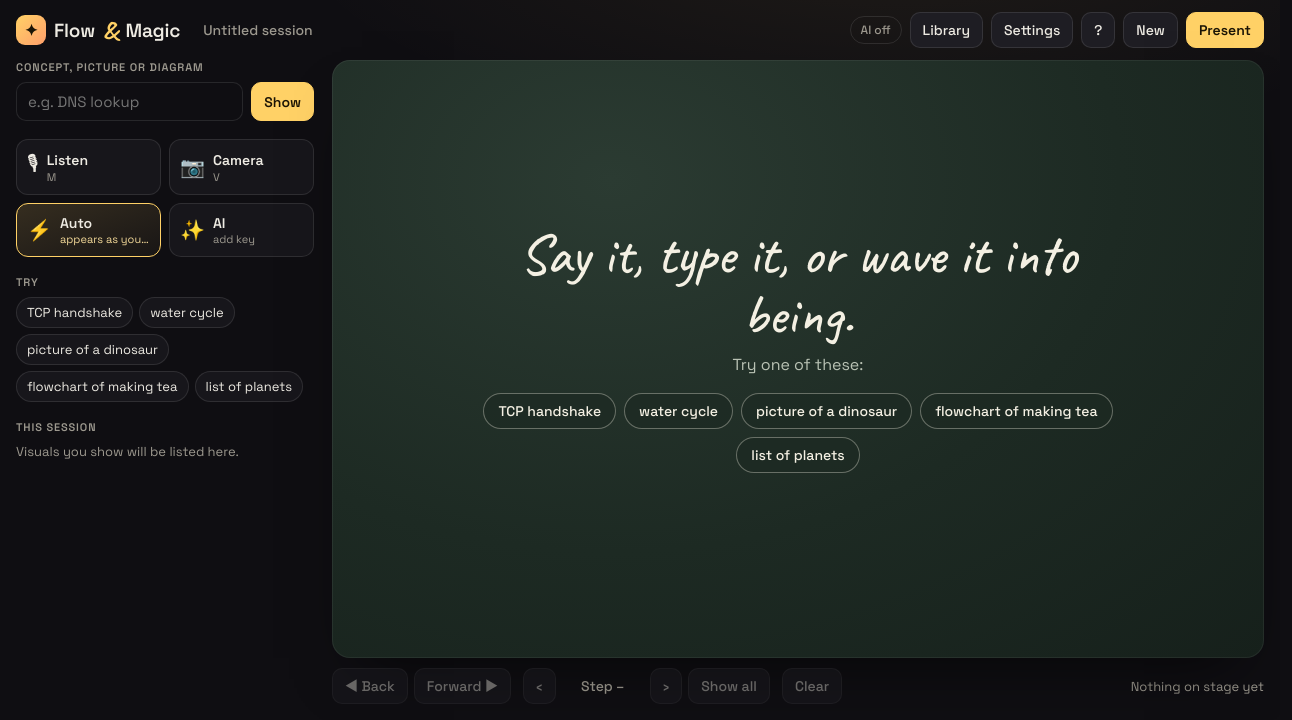
Test: App › typing a concept shows it and arrow keys step through it
The width and height of the screenshot is (1292, 720).
Step 1. Type "TCP handshake" into the field labelled "Concept, picture or diagram" → x=130, y=102, box top-left (16, 82), bottom-right (243, 121)
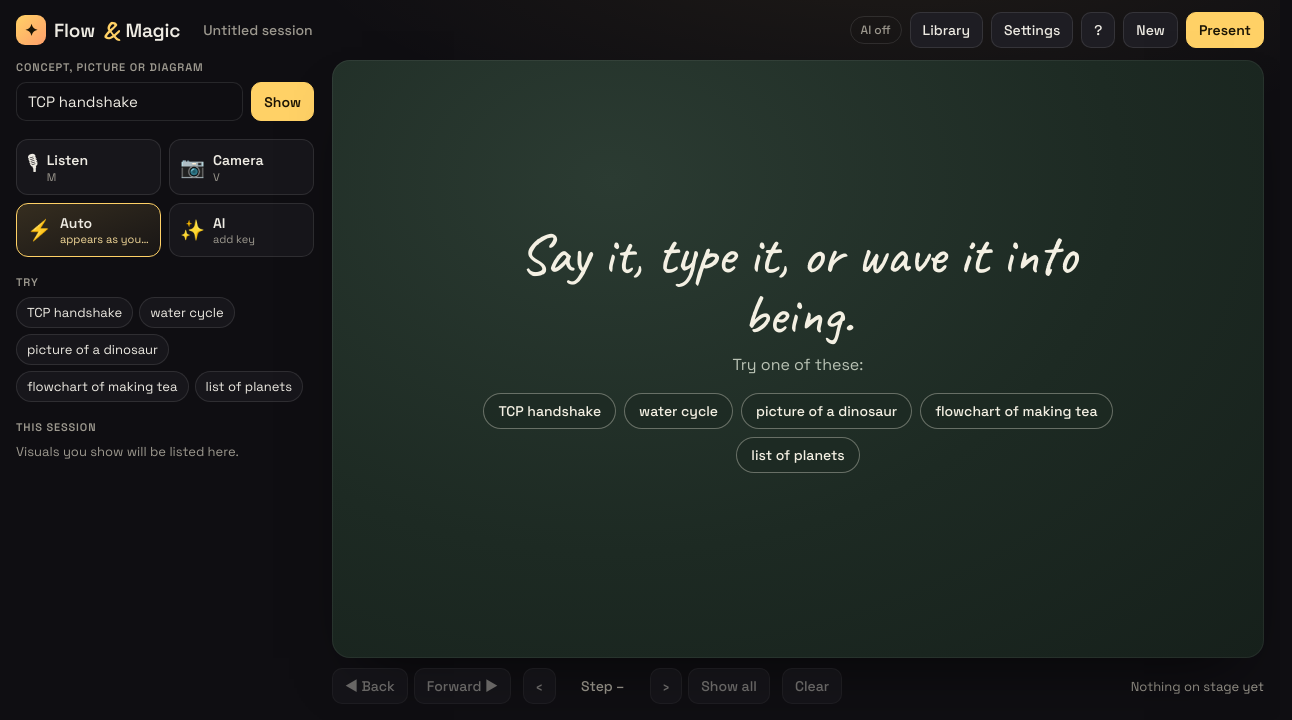
Step 2. Submit the form labelled "Concept, picture or diagram Show", box top-left (16, 60), bottom-right (314, 121)
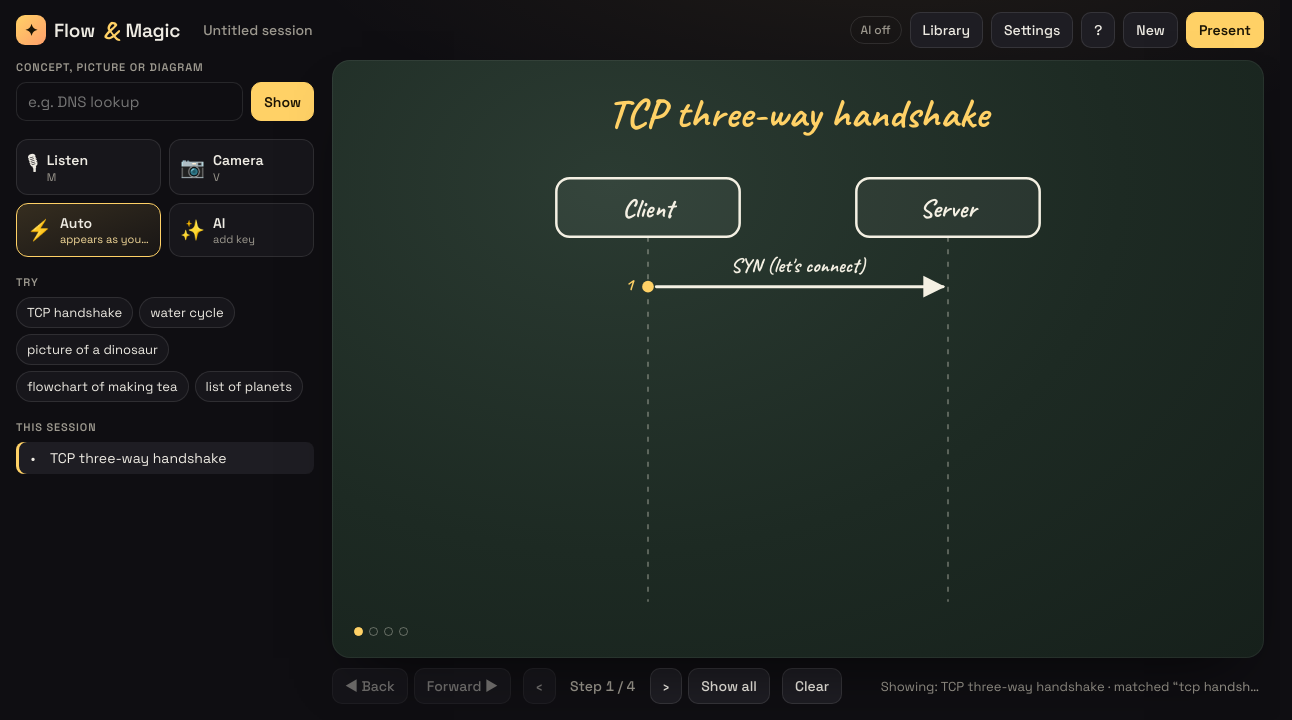
Now the text "Step 1 / 4" is shown, box top-left (570, 677), bottom-right (635, 695)
Step 3. Press ArrowRight
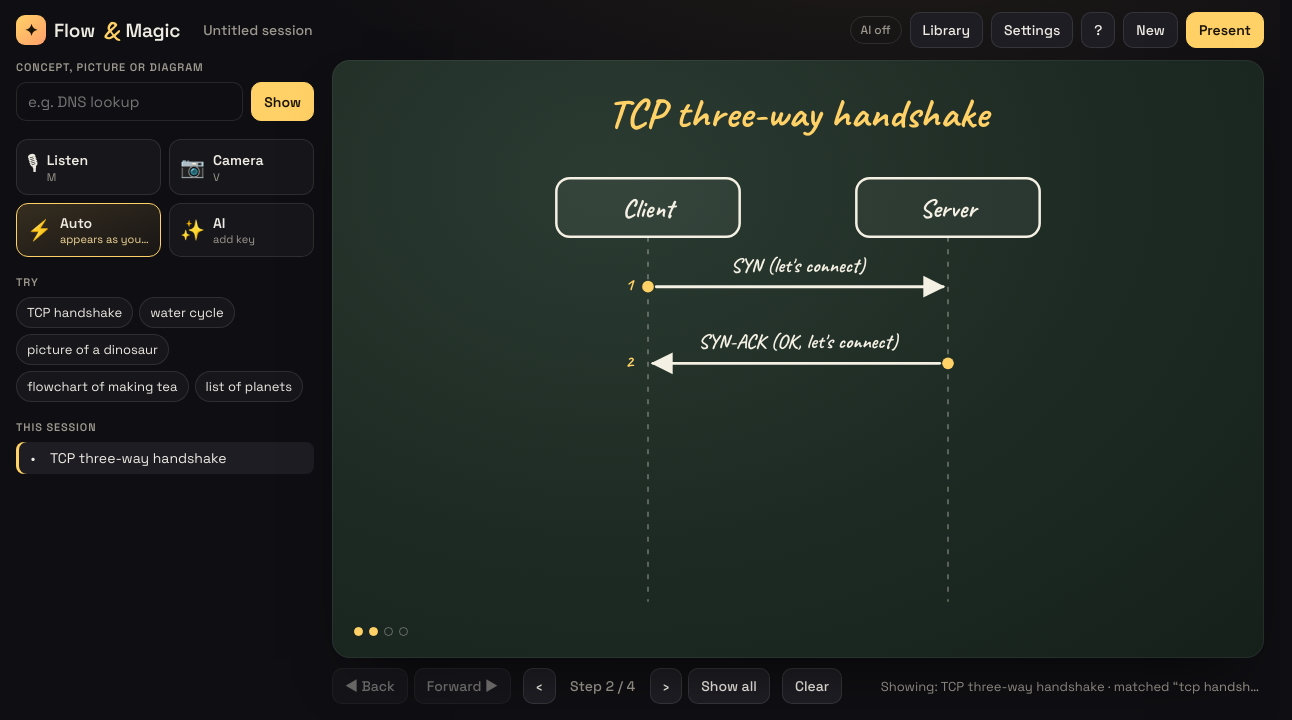
Now the text "Step 2 / 4" is shown, box top-left (570, 677), bottom-right (635, 695)
Step 4. Press a
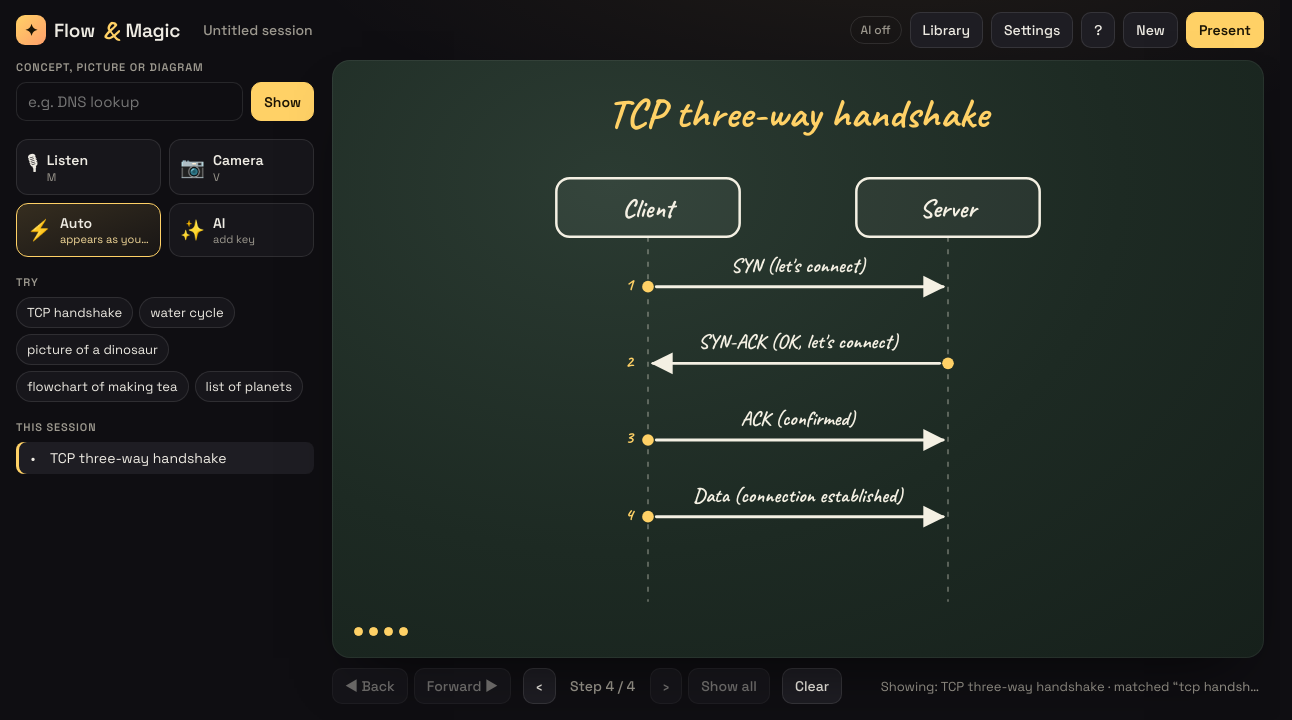
Now the text "Step 4 / 4" is shown, box top-left (570, 677), bottom-right (635, 695)
Step 5. Press c
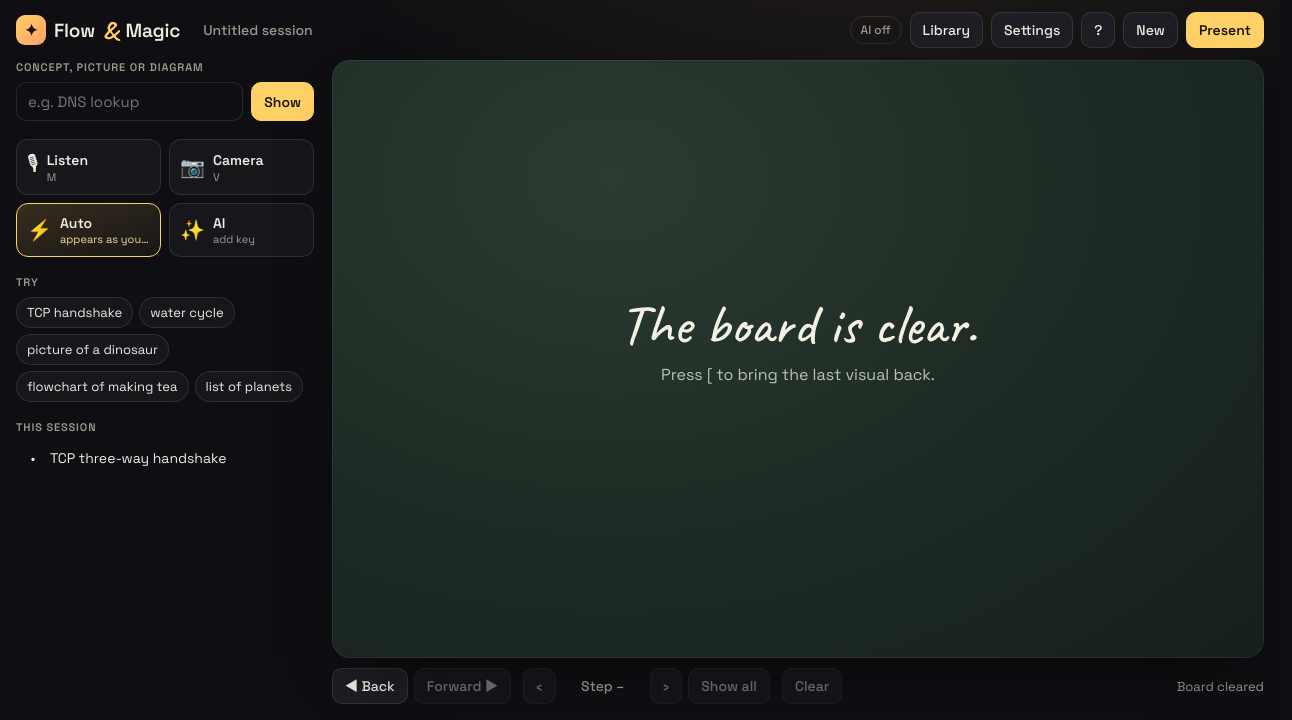
Now the text "The board is clear." is shown, box top-left (619, 295), bottom-right (977, 354)
Step 6. Press [
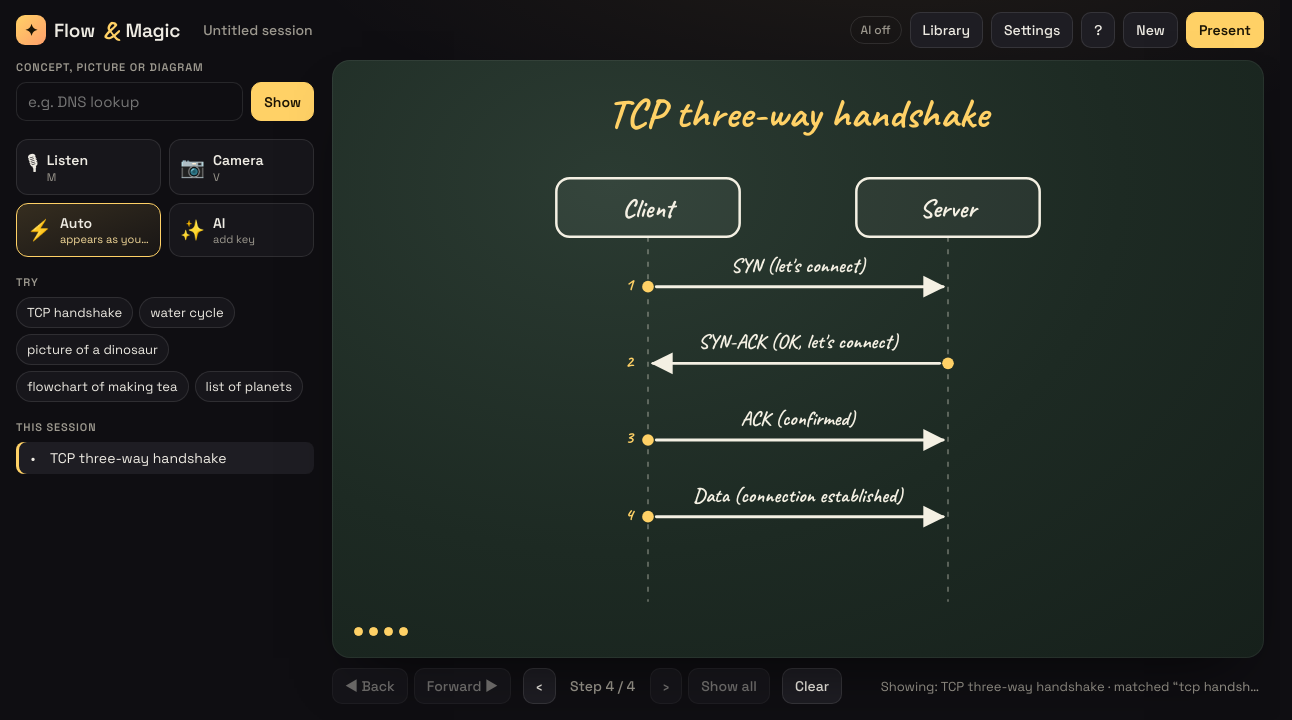
Now the text "Step 4 / 4" is shown, box top-left (570, 677), bottom-right (635, 695)
